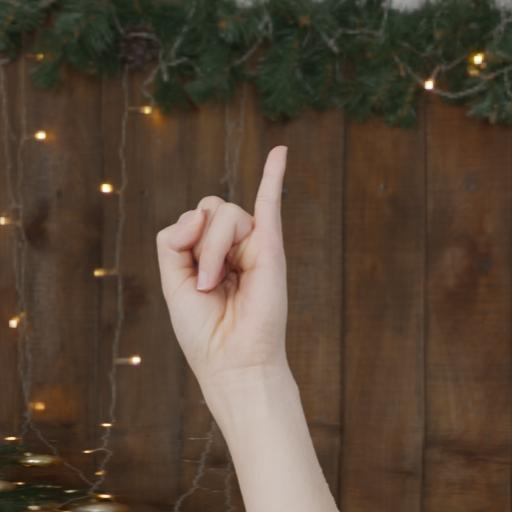I: (142, 132, 305, 498)
